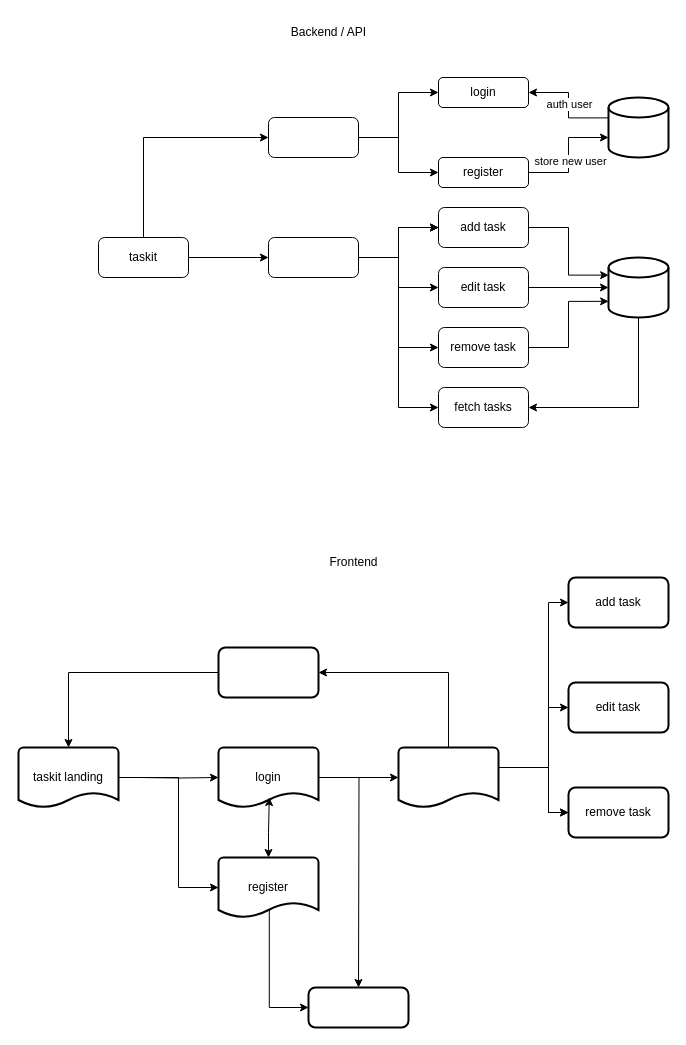
Some shapes in this 686 by 1045 pixel diagram are drawn without their labels. Here are the shapes that lost their labels. From the top down, the box of each, then its label:
(268, 116, 358, 158): auth-service
(607, 96, 669, 158): mongo taskitDB
(268, 236, 358, 278): task-service
(607, 256, 669, 318): postgresql taskitDB
(217, 646, 319, 698): log out
(397, 746, 499, 808): dashboard
(307, 986, 409, 1028): input validation
